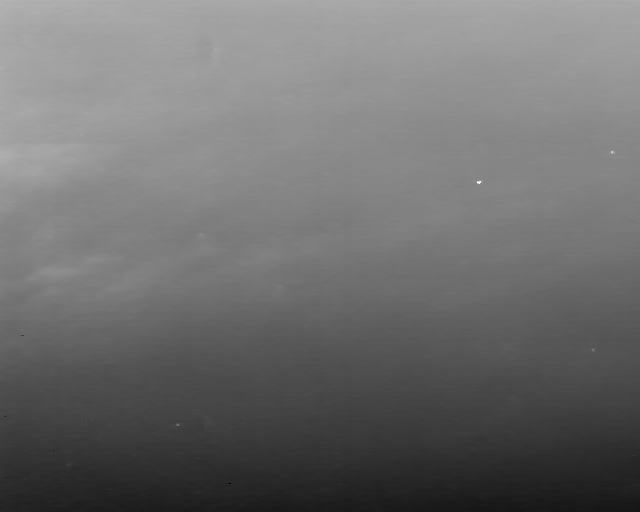Target: (477, 181, 484, 186), (610, 151, 616, 155), (592, 349, 596, 353), (176, 424, 181, 427)
